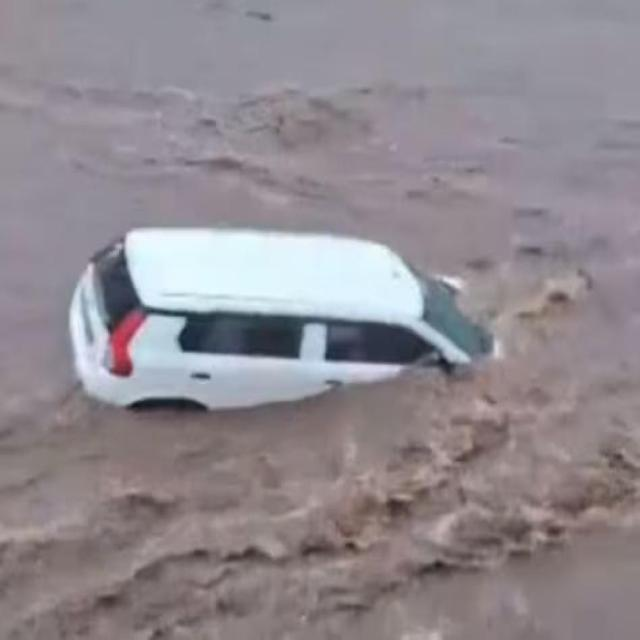water: (0, 1, 639, 637)
